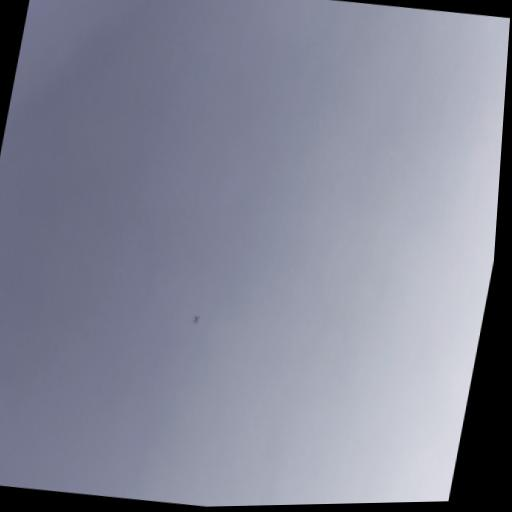drones: (191, 313, 200, 326)
